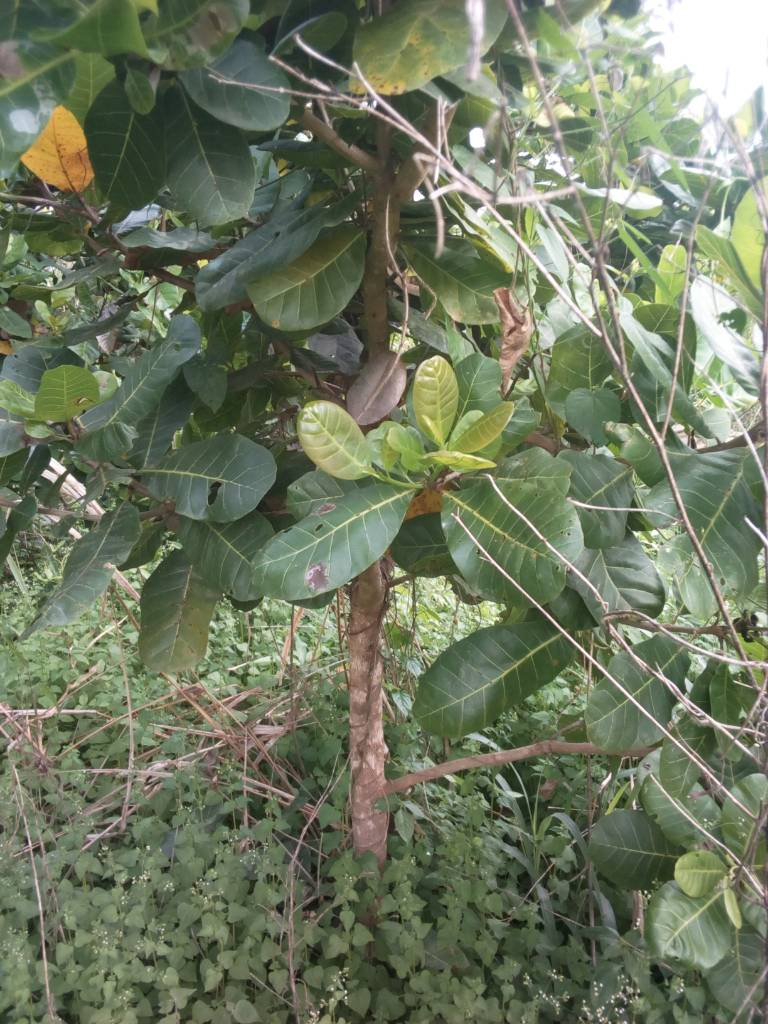Dysdercus wolkerii: (241, 484, 418, 644)
